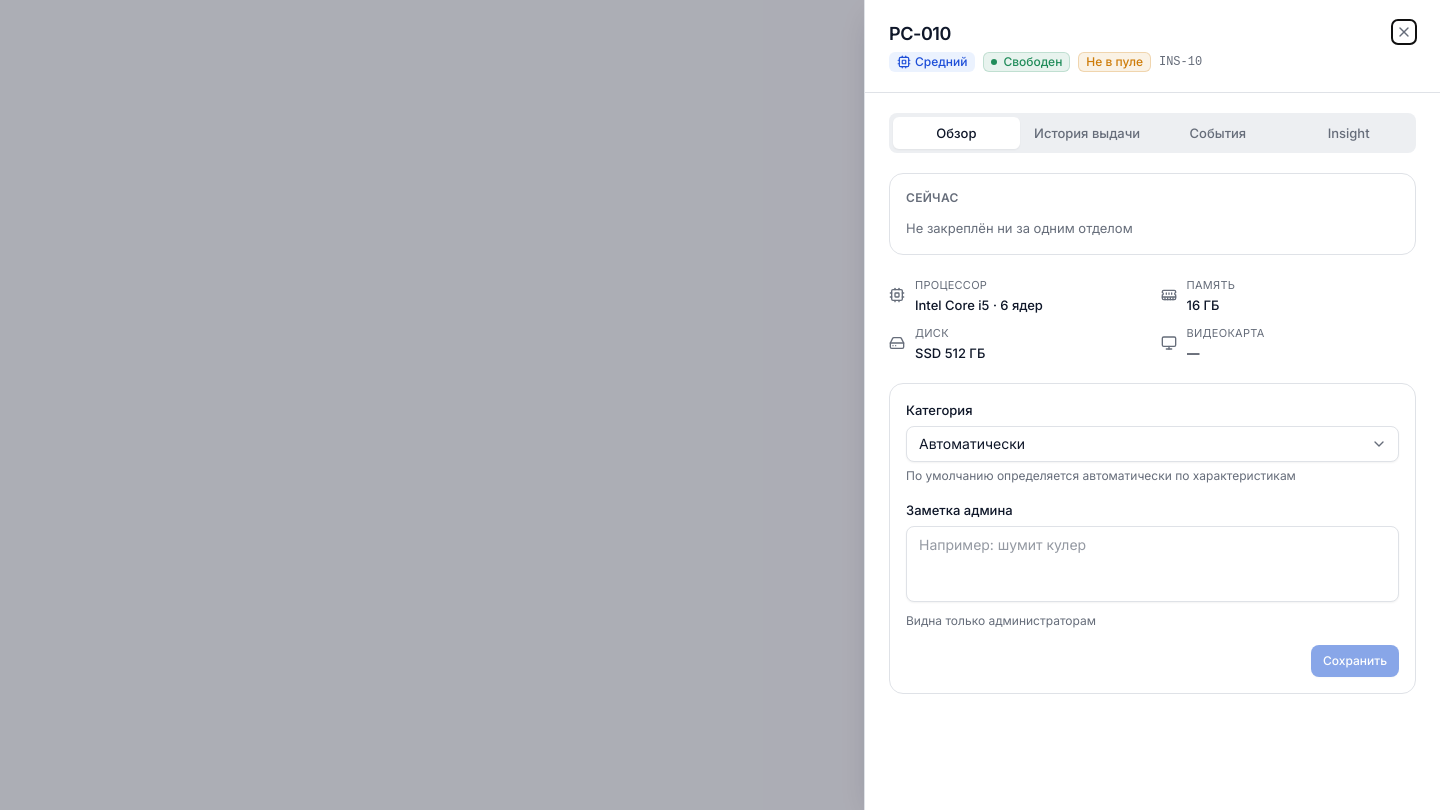
Test: ComputerHistorySheet › вкладки › «История выдачи»: пустое состояние
Click the button "История выдачи" at (1087, 133), box [1024,117,1151,149]
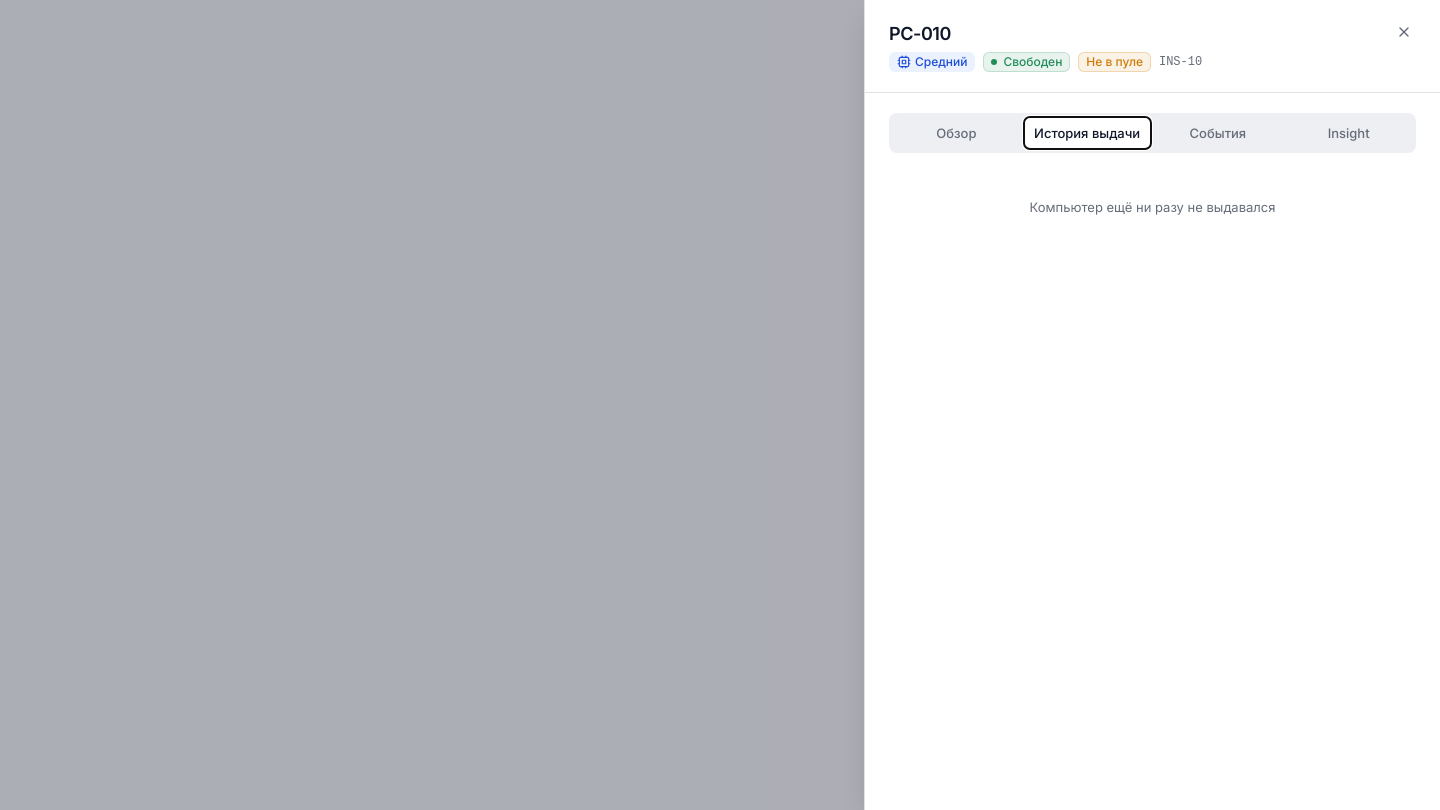
Expected: the text "Компьютер ещё ни разу не выдавался" is shown, [1030,199,1275,215]
